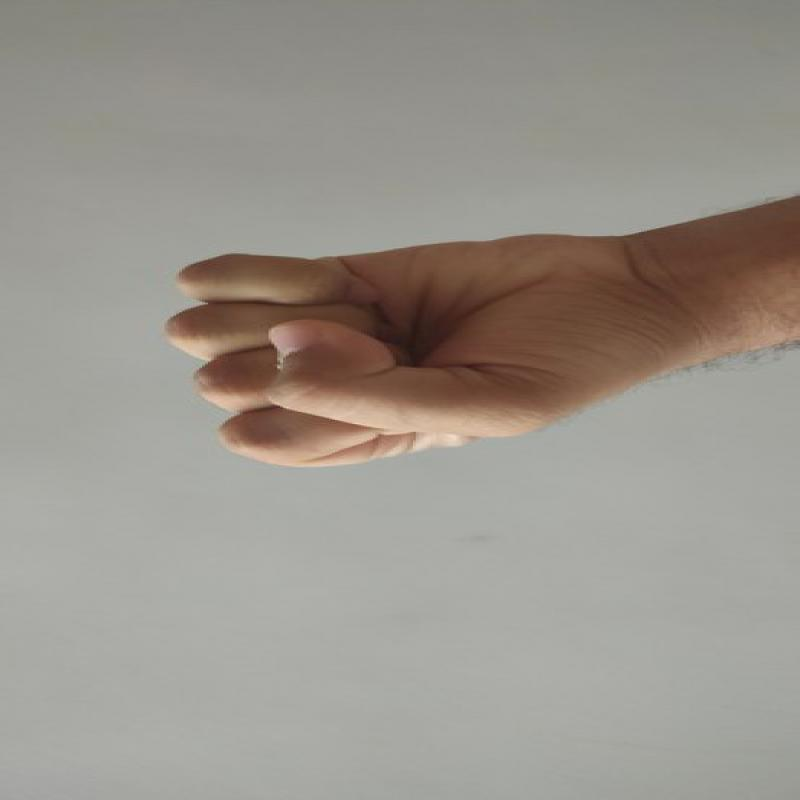Mushti: (160, 213, 656, 482)
